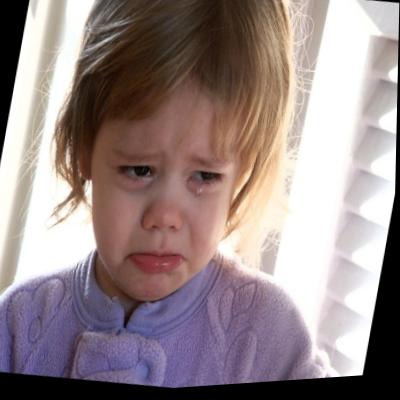sad: (72, 60, 257, 316)
